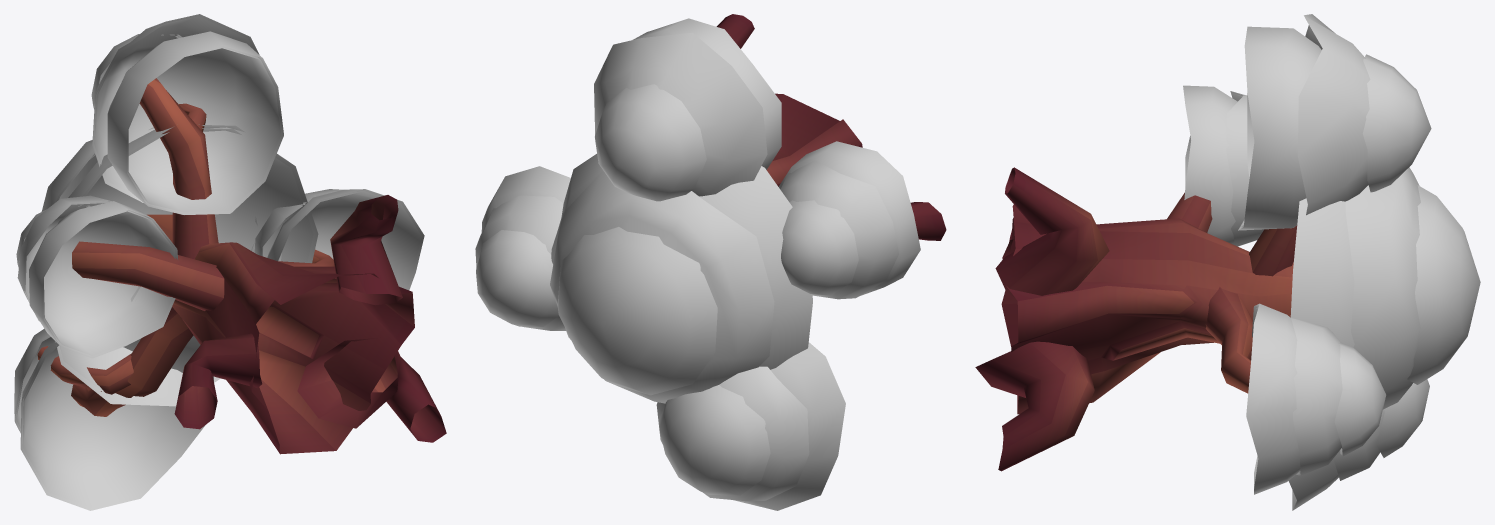
File: Tree 01.FBX
3 views of the same model, side by side, from view 1: azimuth 30°, elevation 25°; view 2: azimuth 150°, elevation 25°; view 3: azimuth 270°, elevation 25° (orthographic). The views are drawn at different scales.
Parts seen in each view (by area): view 1: Tree 01, Tree 01 Leaves Underside, Tree 01 Leaves; view 2: Tree 01 Leaves, Tree 01; view 3: Tree 01 Leaves, Tree 01, Tree 01 Leaves Underside.
Boxes of the visible parts, x1=… form: Tree 01: x1=37, y1=78, x2=446, y2=454; Tree 01 Leaves Underside: x1=16, y1=16, x2=421, y2=507; Tree 01 Leaves: x1=14, y1=14, x2=424, y2=510; Tree 01 Leaves: x1=475, y1=18, x2=920, y2=510; Tree 01: x1=716, y1=14, x2=946, y2=240; Tree 01 Leaves: x1=1183, y1=14, x2=1480, y2=510; Tree 01: x1=975, y1=167, x2=1297, y2=471; Tree 01 Leaves Underside: x1=1186, y1=22, x2=1342, y2=506.
Size of the model in its own units: 697 by 760 by 680.
